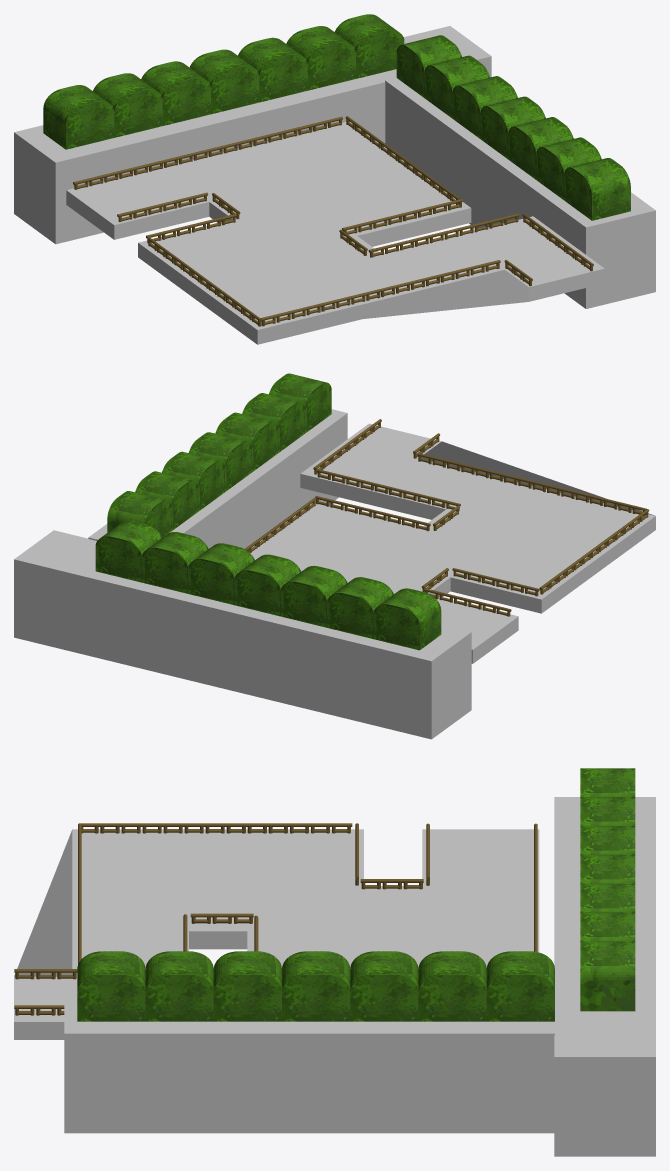
File: steage01.fbx
3 views of the same model, one above another, from view 1: azimuth 30°, elevation 25°; view 2: azimuth 150°, elevation 25°; view 3: azimuth 270°, elevation 25° (orthographic). The views are drawn at different scales.
Parts seen in each view (by area): view 1: Gurand, 葉, 立方体, 立方体.001, 葉.001, 柵.001; view 2: 立方体, Gurand, 葉, 葉.001, 立方体.001, 柵.001; view 3: Gurand, 立方体.001, 葉.001, 立方体, 葉, 柵.001.
Part boxes in pixels (x1,y1,x2,y2): Gurand: (66, 122, 604, 344); 葉: (43, 14, 404, 149); 立方体: (14, 26, 491, 244); 立方体.001: (385, 77, 655, 308); 葉.001: (396, 35, 630, 220); 柵.001: (73, 116, 593, 326); 立方体: (14, 530, 471, 739); Gurand: (250, 423, 655, 663); 葉: (95, 520, 441, 650); 葉.001: (107, 373, 331, 537); 立方体.001: (88, 409, 347, 548); 柵.001: (245, 419, 649, 616); Gurand: (14, 829, 539, 1039); 立方体.001: (64, 991, 554, 1133); 葉.001: (77, 951, 554, 1021); 立方体: (554, 797, 655, 1156); 葉: (580, 768, 635, 1011); 柵.001: (14, 823, 537, 1015).
Size of the model in its own units: 6202 by 1656 by 6472.
